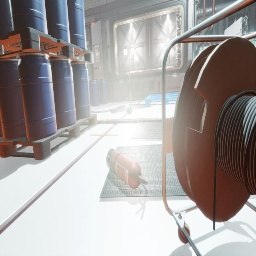0: (124, 104, 132, 115)
FireExtinguisher ]: (106, 148, 148, 189)
SafetySwitchPanel ,: (95, 44, 101, 63)
